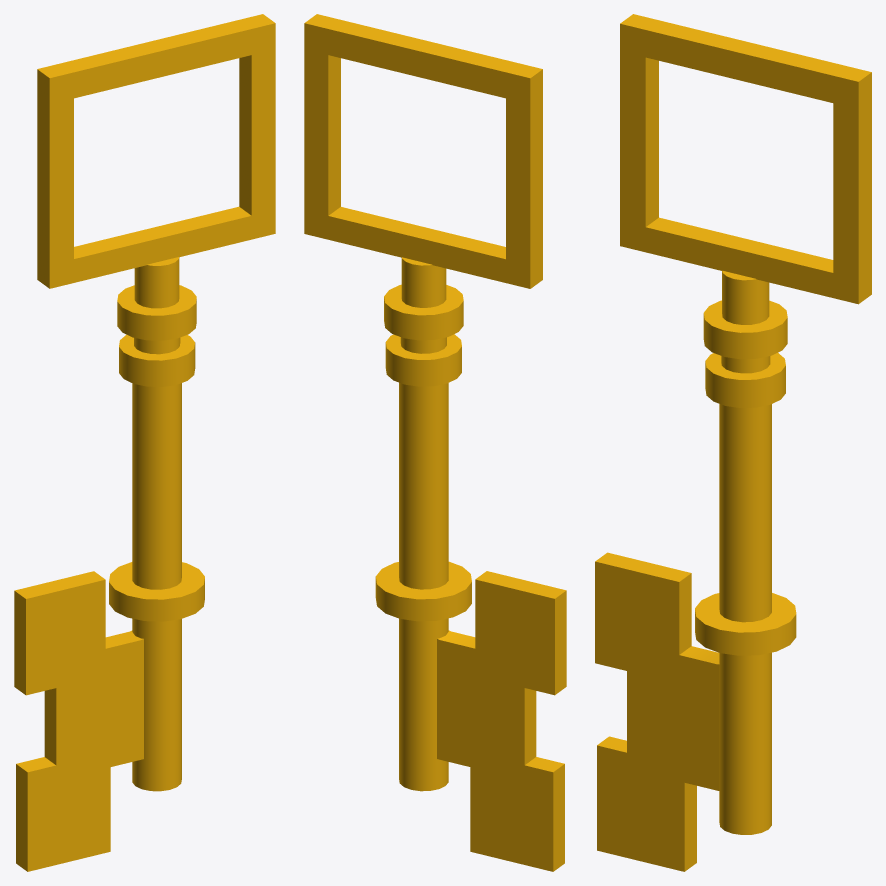
Rendered from Key.FBX.
The picture shows the model from 3 angles, left to right: view 1: azimuth 30°, elevation 25°; view 2: azimuth 150°, elevation 25°; view 3: azimuth 330°, elevation 25°; orthographic projection. The views are drawn at different scales.
Visible parts, largest first — view 1: Line001; view 2: Line001; view 3: Line001.
Boxes of the visible parts, x1=… form: Line001: x1=14, y1=14, x2=275, y2=871; Line001: x1=304, y1=14, x2=566, y2=871; Line001: x1=595, y1=14, x2=871, y2=871.
Bounding box in the file's own units: 4.93 × 14.89 × 1.66.
